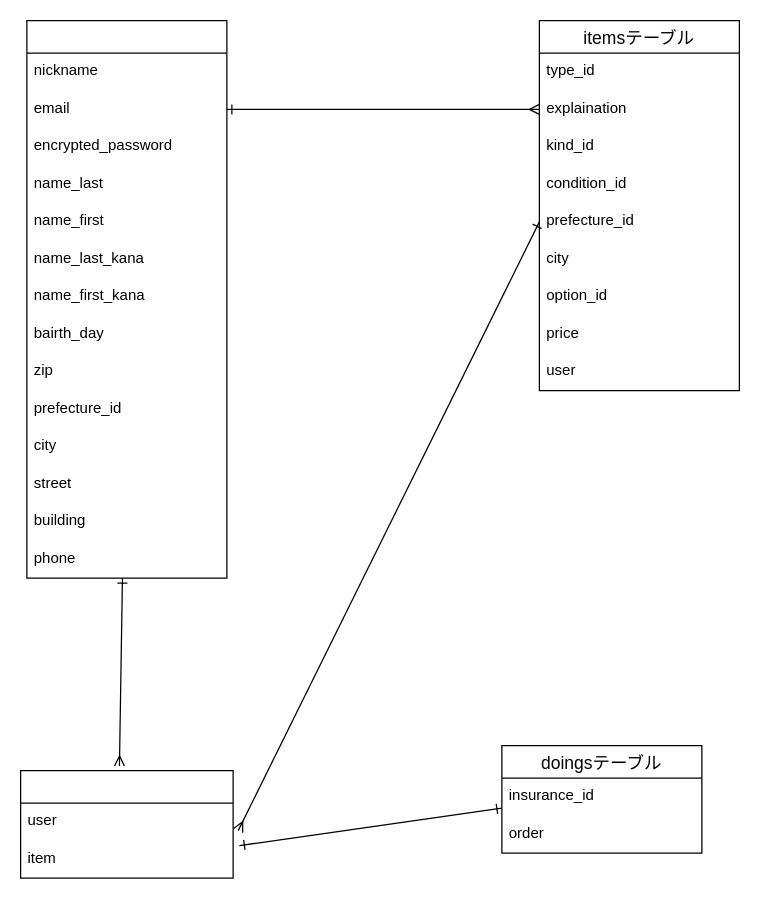
Image size: 760x899. Some labels were removed from this diagram. Each missing label, with the box of its shape:
ordersテーブル: (19, 769, 233, 878)
usersテーブル: (26, 19, 227, 578)
